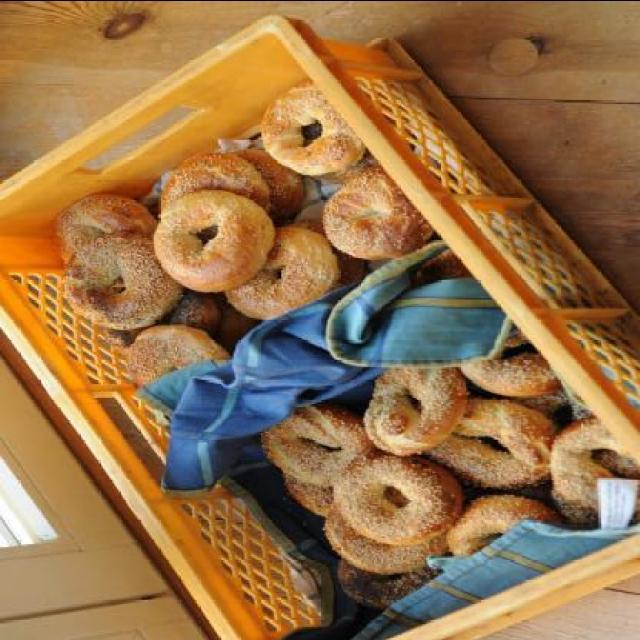Bagel: (52, 82, 470, 390), (263, 335, 639, 607), (339, 458, 464, 556)
